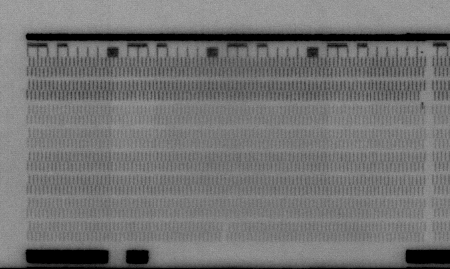Broken hole: (219, 221, 232, 243), (417, 91, 428, 102)
